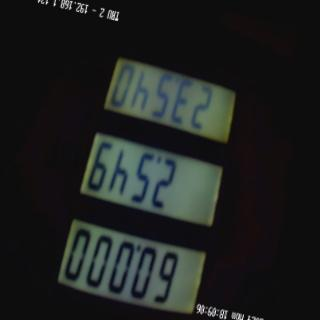screen: (46, 34, 258, 320)
